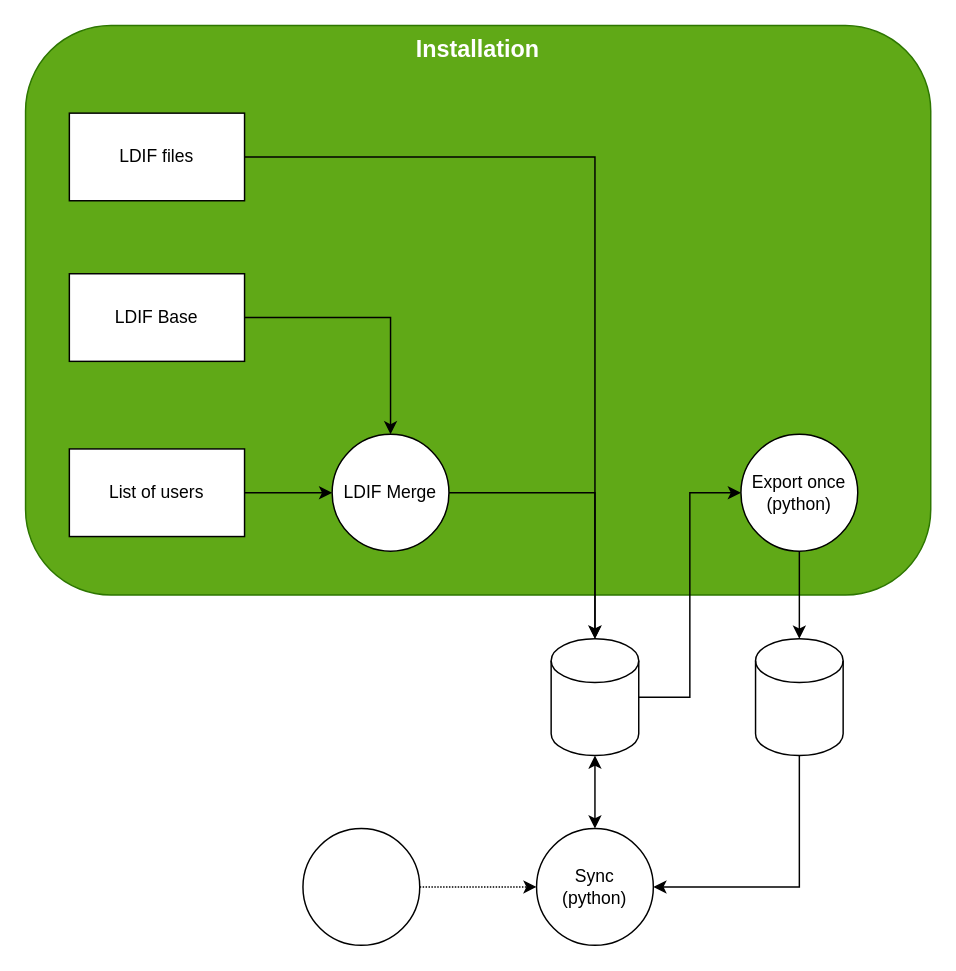
Image size: 956x971. Some labels were removed from this diagram. Here are the shapes that lost their labels. From the top down, the box of each, then its label:
(550, 637, 639, 756): LDAP
(754, 637, 843, 756): Personell
(301, 827, 420, 945): CRON (timer)
